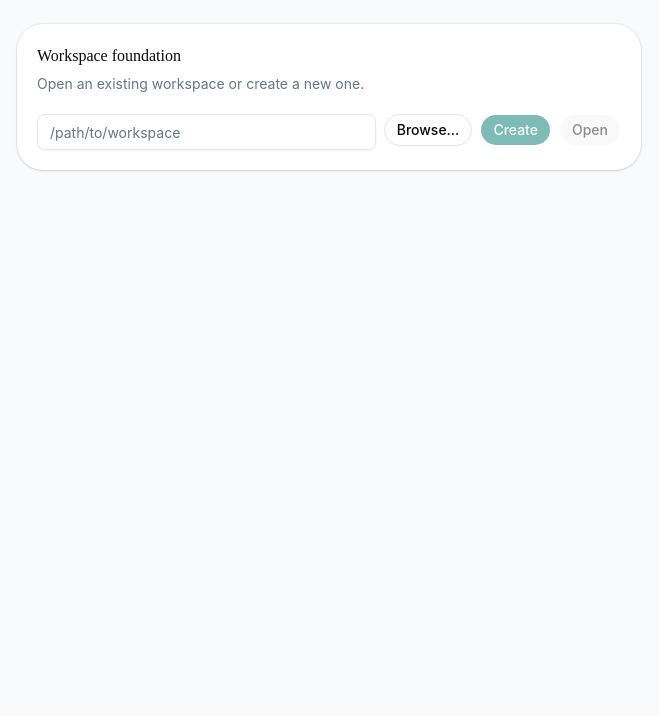
Test: WorkspaceFoundationPanel › lists relationships and gates the edge-authoring form
The image size is (659, 716).
In the field named "Workspace folder": (206, 132) [37,114,376,150], type "/Users/demo/workspaces/demo"
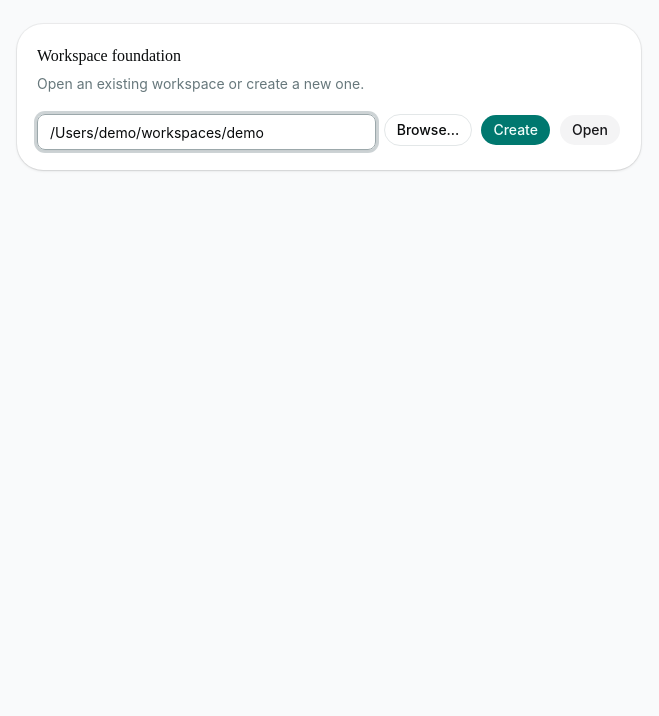
Click the button "Open": (590, 130) [559,114,621,146]
(page scrolled)
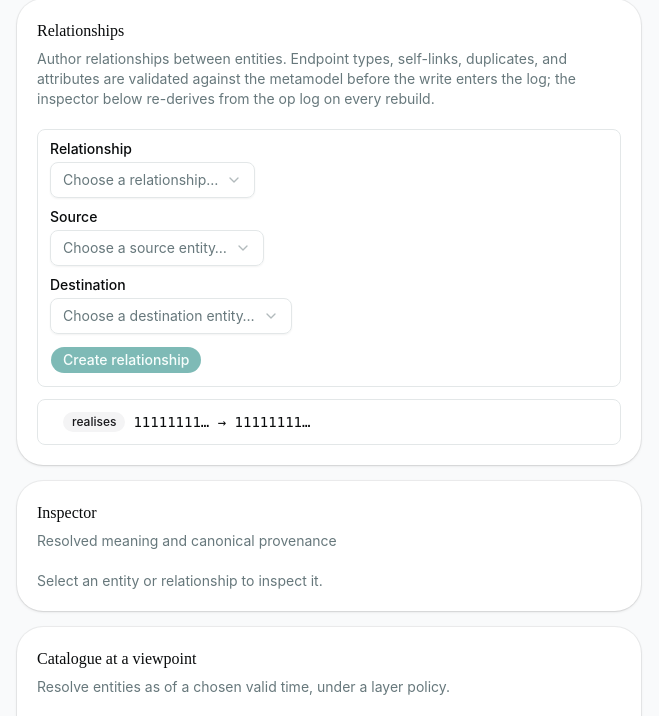
Expected: the text "Relationships" is shown, [37,22,124,39]
Expected: the text "realises" is shown, [63,412,125,432]
Expected: the dropdown labelled "relationship" is shown, [50,162,255,198]
